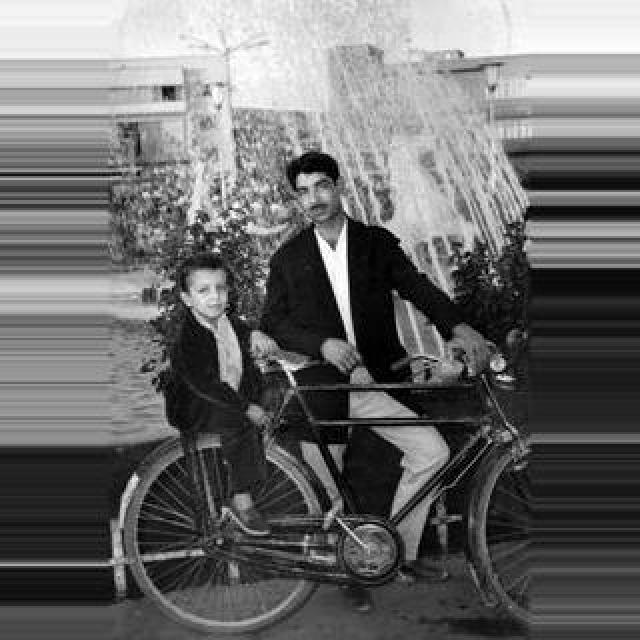MC-Bike: (258, 148, 518, 630), (154, 254, 292, 540)
Person: (113, 348, 523, 634)
